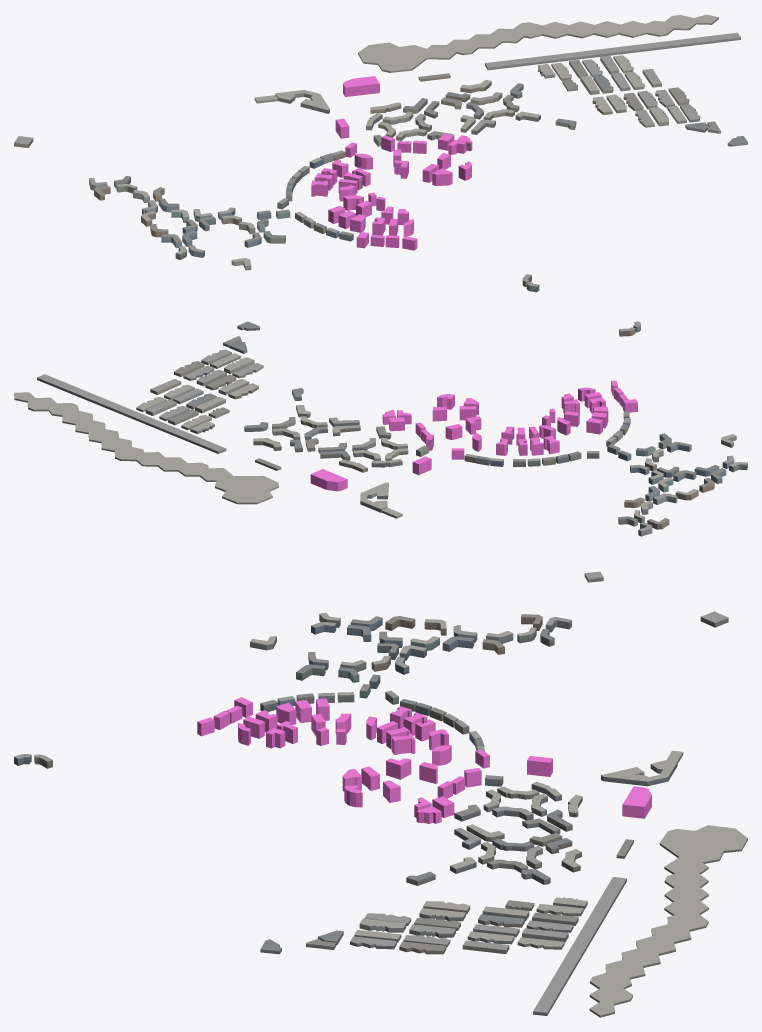
File: bld_19_7.fbx
3 views of the same model, one above another, from view 1: azimuth 30°, elevation 25°; view 2: azimuth 150°, elevation 25°; view 3: azimuth 270°, elevation 25° (orthographic). The views are drawn at different scales.
Visible parts, largest first — view 1: bld_19_7_LOD0, bld_19_7_COL; view 2: bld_19_7_LOD0, bld_19_7_COL; view 3: bld_19_7_LOD0, bld_19_7_COL.
Part boxes in pixels (x1=…): bld_19_7_LOD0: x1=14, y1=14, x2=747, y2=292; bld_19_7_COL: x1=311, y1=76, x2=472, y2=250; bld_19_7_LOD0: x1=14, y1=321, x2=747, y2=582; bld_19_7_COL: x1=310, y1=380, x2=637, y2=491; bld_19_7_LOD0: x1=14, y1=611, x2=747, y2=1017; bld_19_7_COL: x1=197, y1=697, x2=651, y2=823.
Size of what is drawn, in the model's own units: 2440 by 40.75 by 1883.
